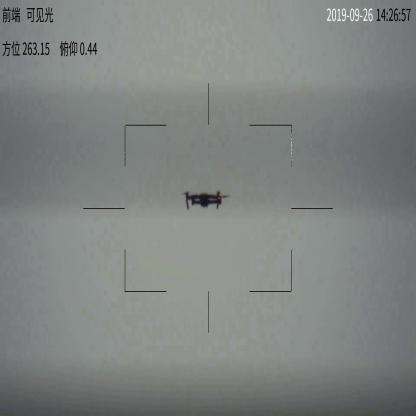uav: (180, 186, 232, 216)
